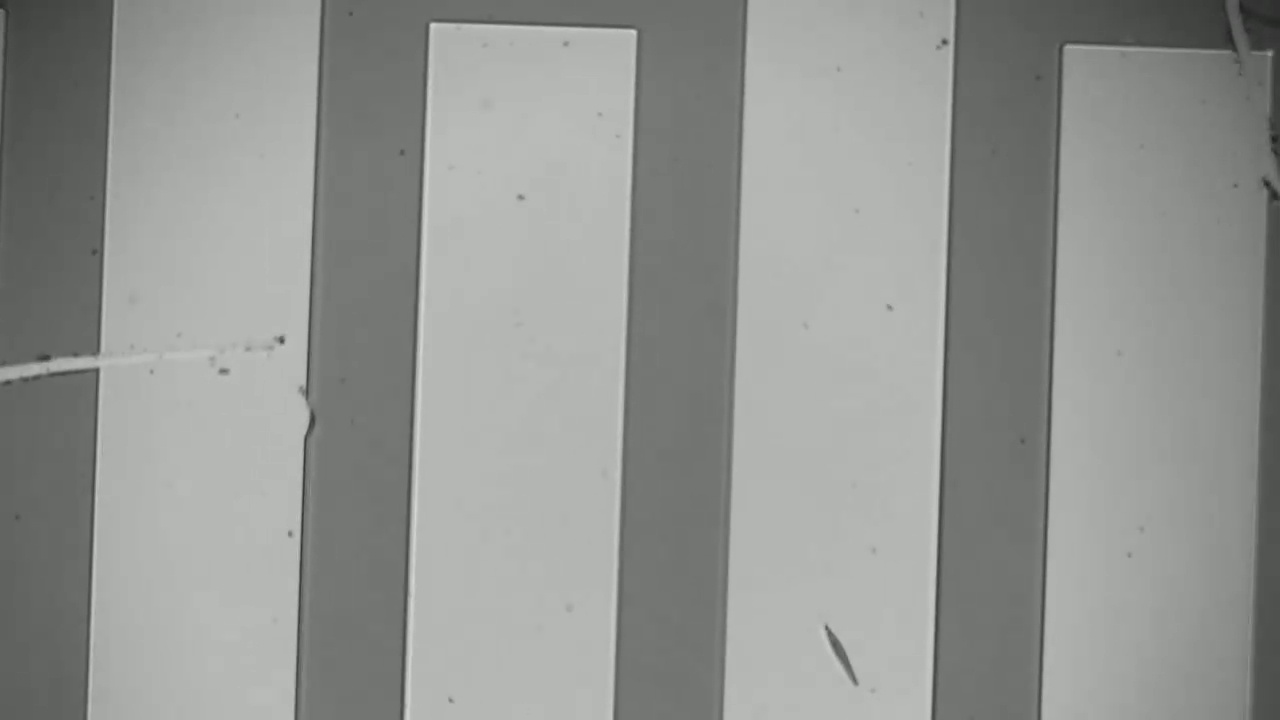Short_circuit: (0, 323, 122, 400), (1220, 1, 1265, 71)
